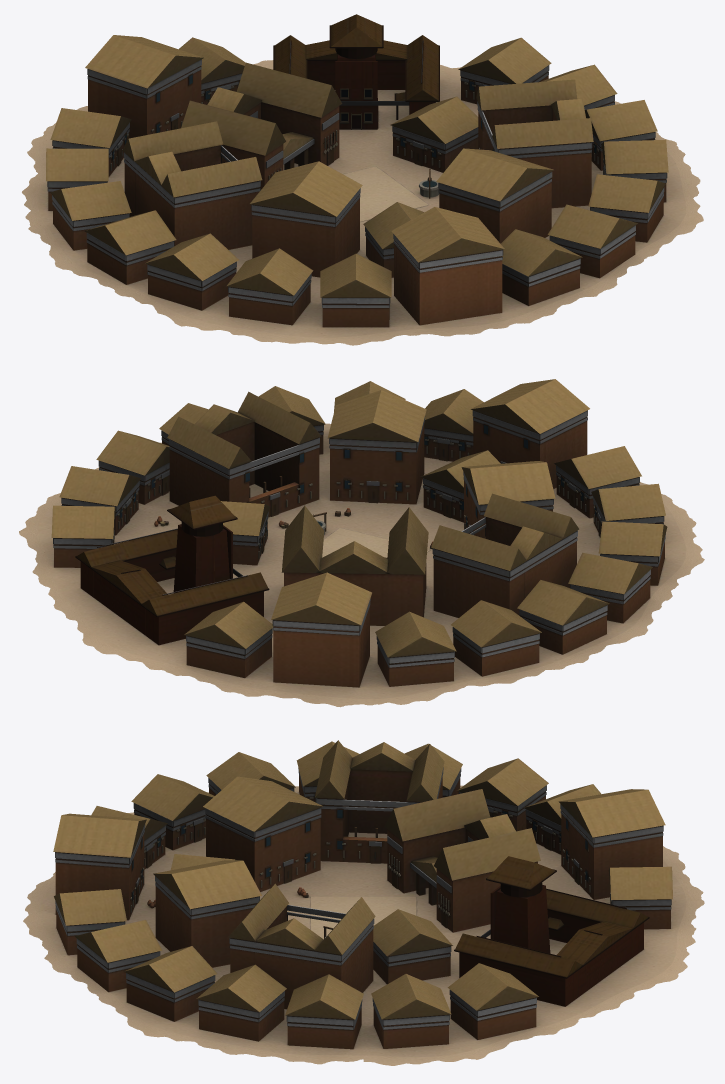
The model's file is kingdoms-town-big-a-westafrica-e08bff10.glb.
3 renders of one model, top to bottom at view 1: azimuth 30°, elevation 25°; view 2: azimuth 150°, elevation 25°; view 3: azimuth 270°, elevation 25°, orthographic.
Parts seen in each view (by area): view 1: LOD0; view 2: LOD0; view 3: LOD0.
Part boxes in pixels (left/top/right/bottom): LOD0: left=22, top=14, right=703, bottom=345; LOD0: left=19, top=379, right=704, bottom=707; LOD0: left=23, top=740, right=704, bottom=1065.
Size of what is drawn, in the model's own units: 7.93 by 1.27 by 7.96.
Materials: 3 (3 with a texture image).
